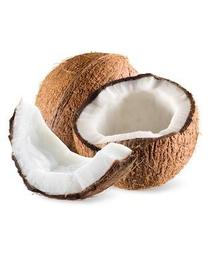coconut: (71, 73, 199, 189), (31, 53, 147, 163)
